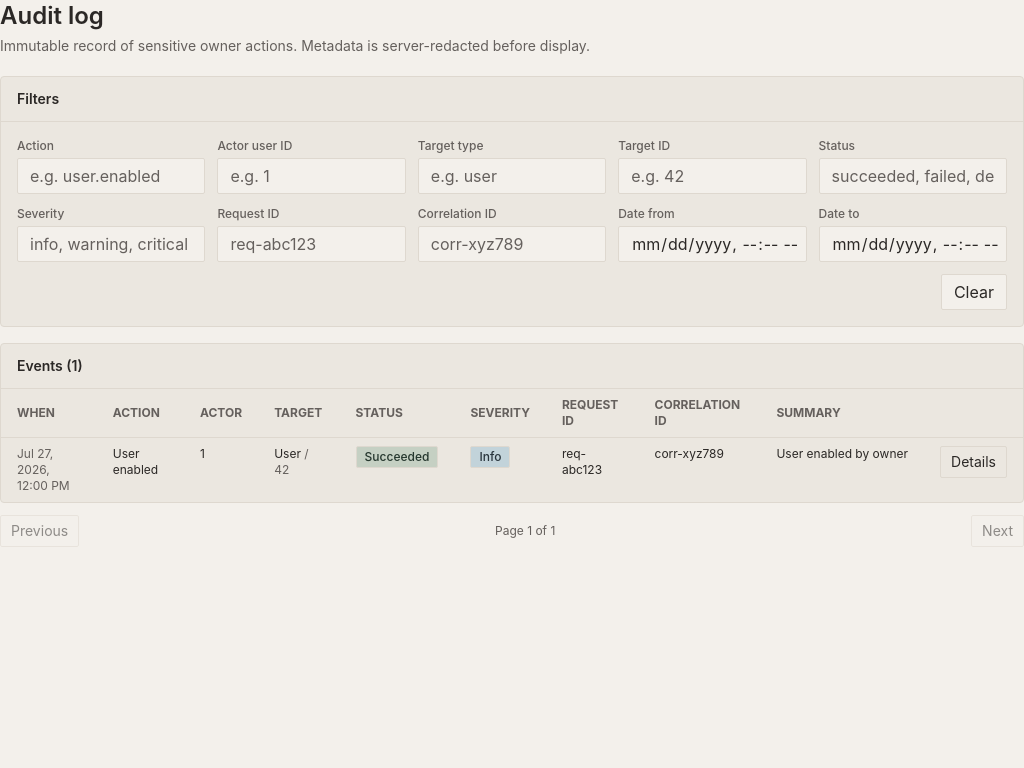
Test: AuditPage detail dialog › shows loading state while detail loads
Check: the text "User enabled" is shown, box [113,446,158,477]
Click the button with aria-label "View details for audit event 1". click: (974, 462)
box: [940,446,1007,478]
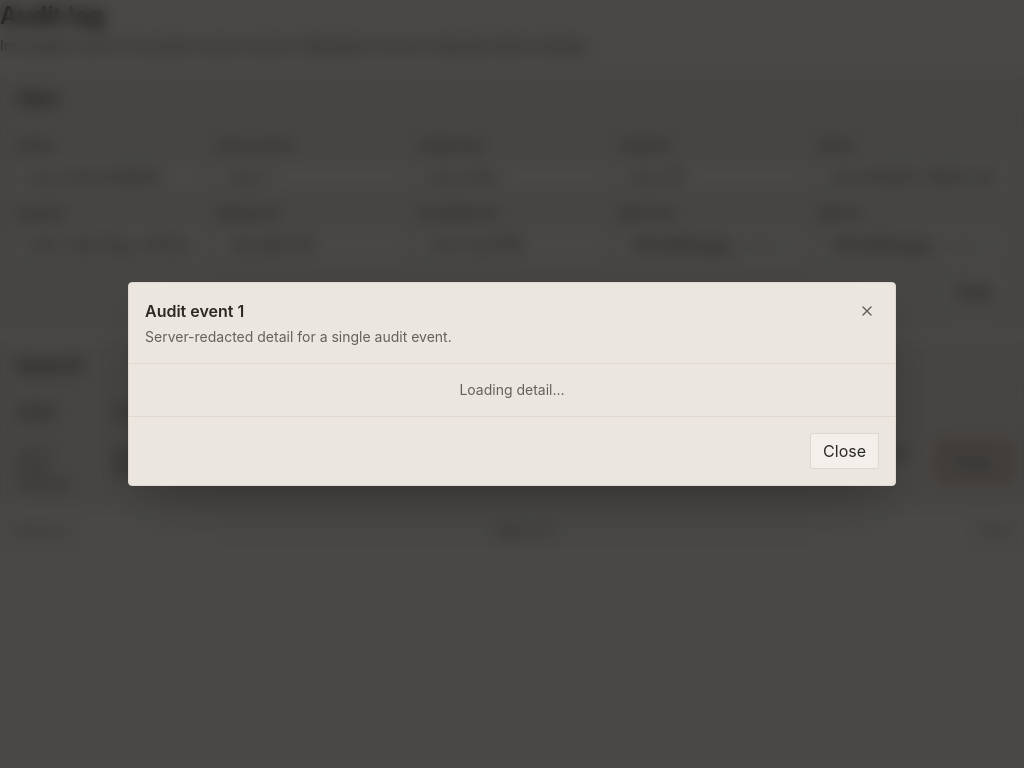
Check: the text "Loading detail…" is shown, box [459,381,565,398]
